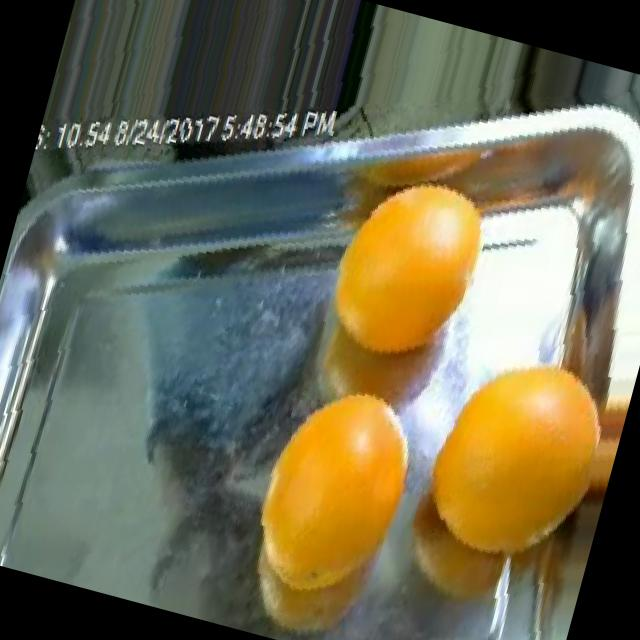Fruit: (220, 355, 430, 612)
